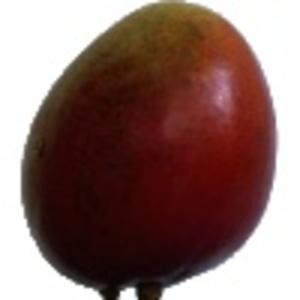manga: (21, 1, 279, 300)
